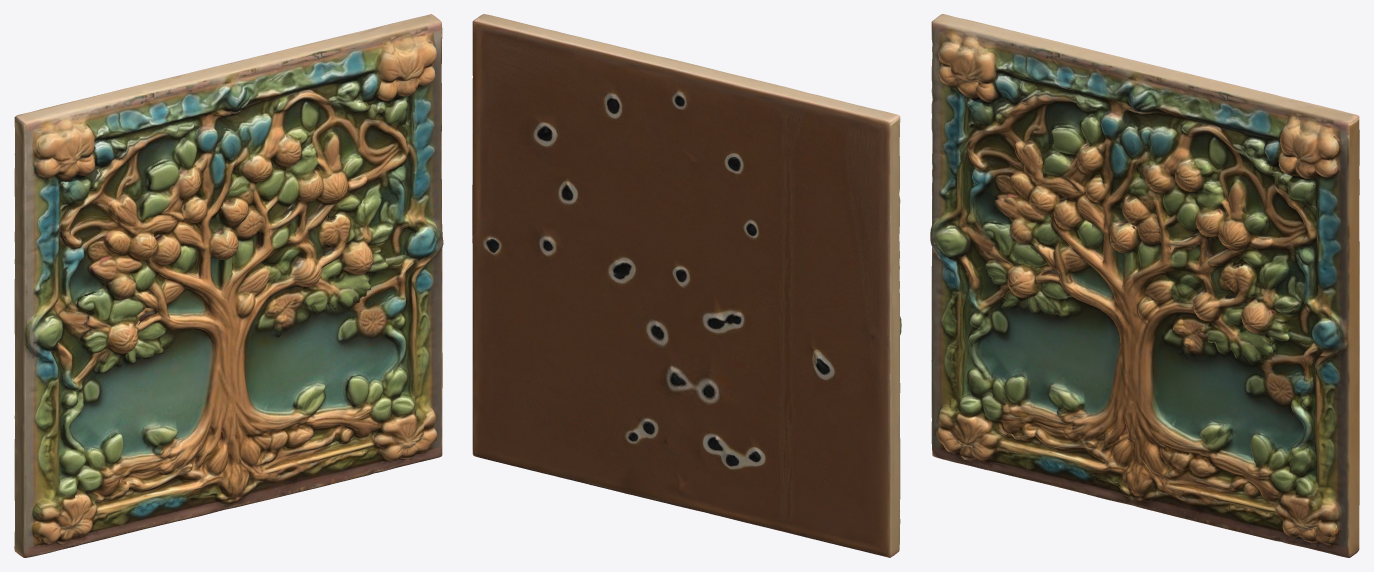
Rendered from Meshy_AI_Tree_of_Life_Ceramic__0221024611_texture.glb.
3 views of the same model, side by side, from view 1: azimuth 30°, elevation 25°; view 2: azimuth 150°, elevation 25°; view 3: azimuth 330°, elevation 25° (orthographic).
Bounding box in the file's own units: 2.01 × 2 × 0.1933.
1 material, 1 textured.
